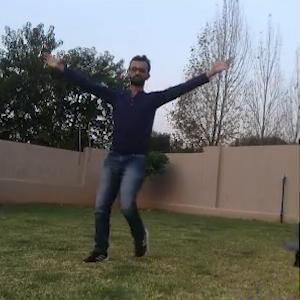takeoff: (46, 50, 230, 251)
